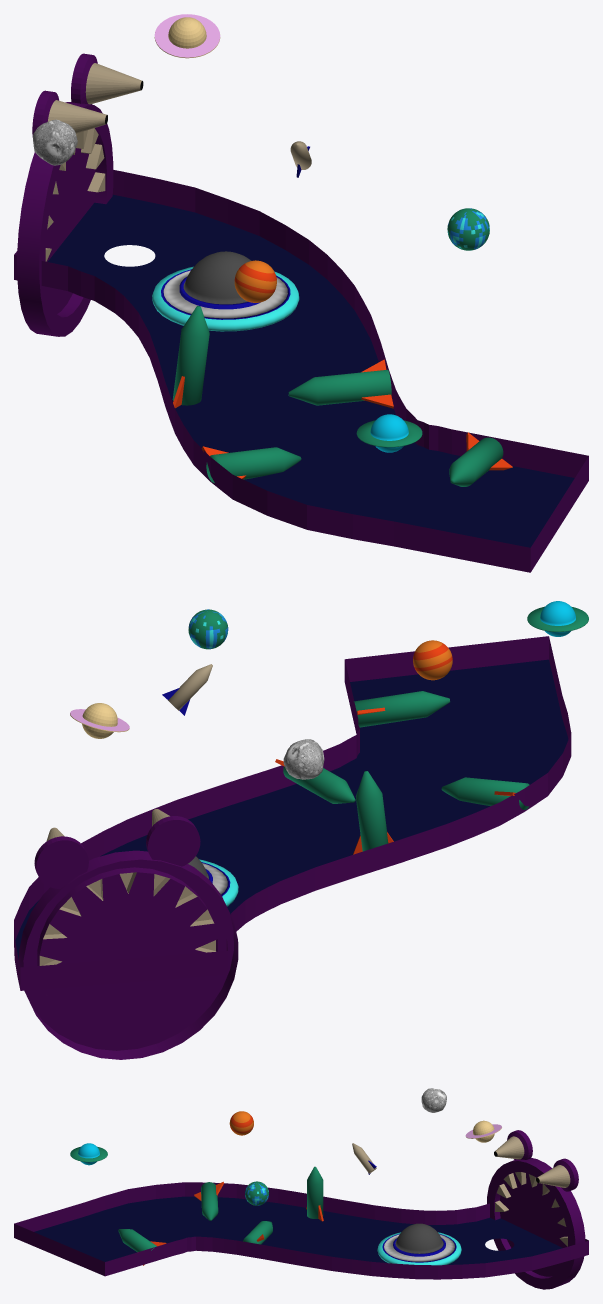
Rendered from rymdenbana 1 1.glb.
The picture shows the model from 3 angles, top to bottom: view 1: azimuth 30°, elevation 25°; view 2: azimuth 150°, elevation 25°; view 3: azimuth 270°, elevation 25°; orthographic projection. The views are drawn at different scales.
Visible parts, largest first — view 1: Cube, Cube.001, Cylinder.005, Cylinder.015, Sphere.005, Cylinder.006, Cylinder.004, Cylinder.012, Sphere.003, Cylinder.002, Sphere, Cylinder.010 (+5 smaller); view 2: Cube, Cylinder.005, Cube.001, Cylinder.015, Cylinder.006, Cylinder.010, Cylinder.012, Cylinder.002, Sphere, Sphere.004, Sphere.003, Sphere.001 (+5 smaller); view 3: Cube, Cube.001, Cylinder.015, Cylinder.005, Sphere.005, Cylinder.006, Cylinder.016, Cylinder.012, Sphere, Cylinder.002, Sphere.004, Sphere.003 (+6 smaller).
Boxes of the visible parts, x1=… form: Cube: x1=14, y1=170, x2=588, y2=547; Cube.001: x1=14, y1=172, x2=588, y2=572; Cylinder.005: x1=17, y1=103, x2=113, y2=336; Cylinder.015: x1=17, y1=102, x2=113, y2=335; Sphere.005: x1=152, y1=251, x2=299, y2=331; Cylinder.006: x1=32, y1=53, x2=143, y2=137; Cylinder.004: x1=288, y1=369, x2=391, y2=405; Cylinder.012: x1=172, y1=306, x2=209, y2=405; Sphere.003: x1=154, y1=14, x2=220, y2=58; Cylinder.002: x1=206, y1=447, x2=301, y2=483; Sphere: x1=356, y1=414, x2=422, y2=452; Cylinder.010: x1=449, y1=437, x2=503, y2=486; Cube: x1=14, y1=636, x2=571, y2=959; Cylinder.005: x1=19, y1=850, x2=238, y2=1059; Cube.001: x1=14, y1=636, x2=571, y2=990; Cylinder.015: x1=19, y1=850, x2=238, y2=1050; Cylinder.006: x1=34, y1=809, x2=200, y2=888; Cylinder.010: x1=353, y1=691, x2=450, y2=727; Cylinder.012: x1=355, y1=771, x2=388, y2=851; Cylinder.002: x1=441, y1=777, x2=529, y2=809; Sphere: x1=527, y1=601, x2=588, y2=636; Sphere.004: x1=283, y1=739, x2=324, y2=779; Sphere.003: x1=70, y1=703, x2=129, y2=738; Sphere.001: x1=188, y1=609, x2=228, y2=649; Cube: x1=14, y1=1182, x2=588, y2=1264; Cube.001: x1=14, y1=1182, x2=588, y2=1279; Cylinder.015: x1=489, y1=1158, x2=585, y2=1286; Cylinder.005: x1=487, y1=1162, x2=581, y2=1289; Sphere.005: x1=377, y1=1223, x2=461, y2=1265; Cylinder.006: x1=495, y1=1130, x2=578, y2=1191; Cylinder.016: x1=494, y1=1131, x2=573, y2=1189; Cylinder.012: x1=307, y1=1166, x2=323, y2=1218; Sphere: x1=70, y1=1143, x2=107, y2=1165; Cylinder.002: x1=201, y1=1182, x2=218, y2=1220; Sphere.004: x1=421, y1=1088, x2=446, y2=1112; Sphere.003: x1=465, y1=1120, x2=501, y2=1142.
Bounding box in the file's own units: 2.86 × 2.77 × 7.85.
32 materials, 2 textured.
